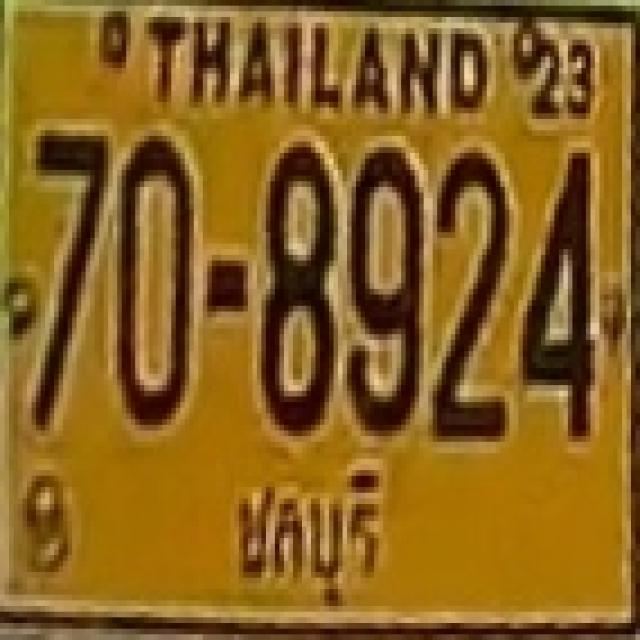0: (113, 130, 189, 419)
2: (431, 147, 506, 447)
4: (518, 147, 590, 430)
7: (22, 128, 104, 435)
8: (255, 142, 331, 424)
9: (343, 147, 419, 430)
CBI: (228, 457, 390, 622)
